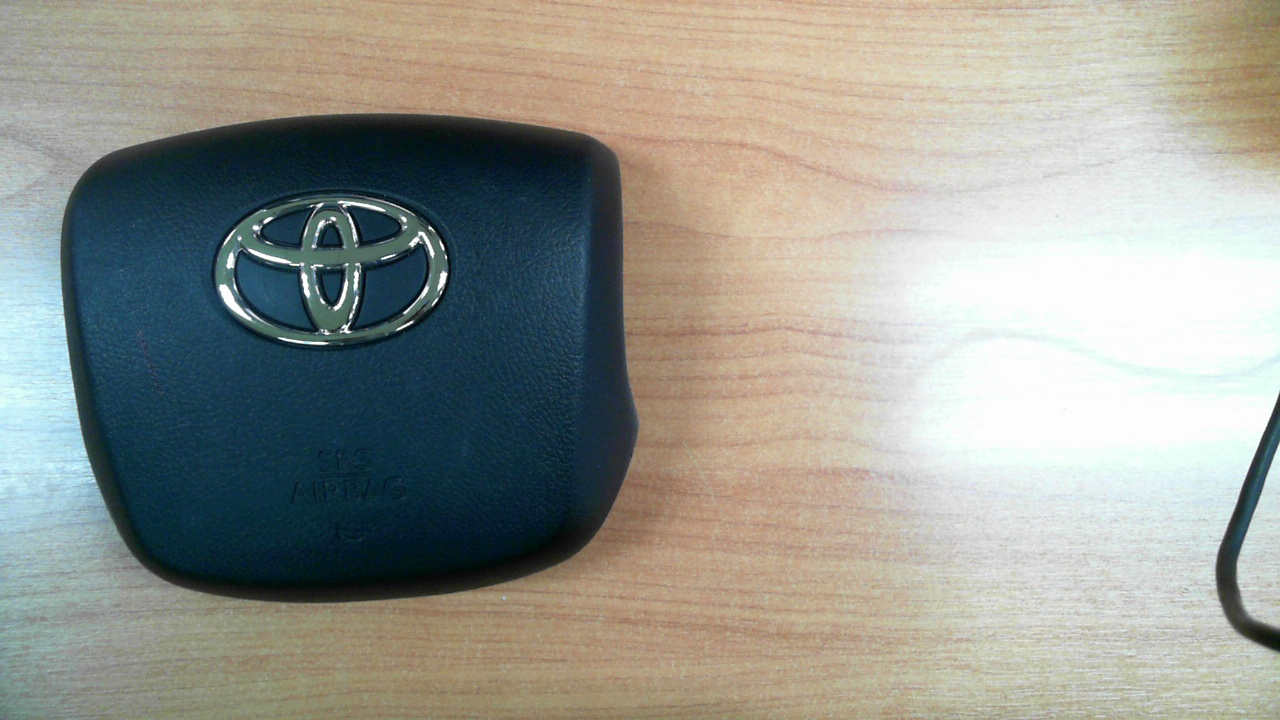Airbag: (68, 117, 640, 602)
Toyota: (214, 192, 449, 346)
